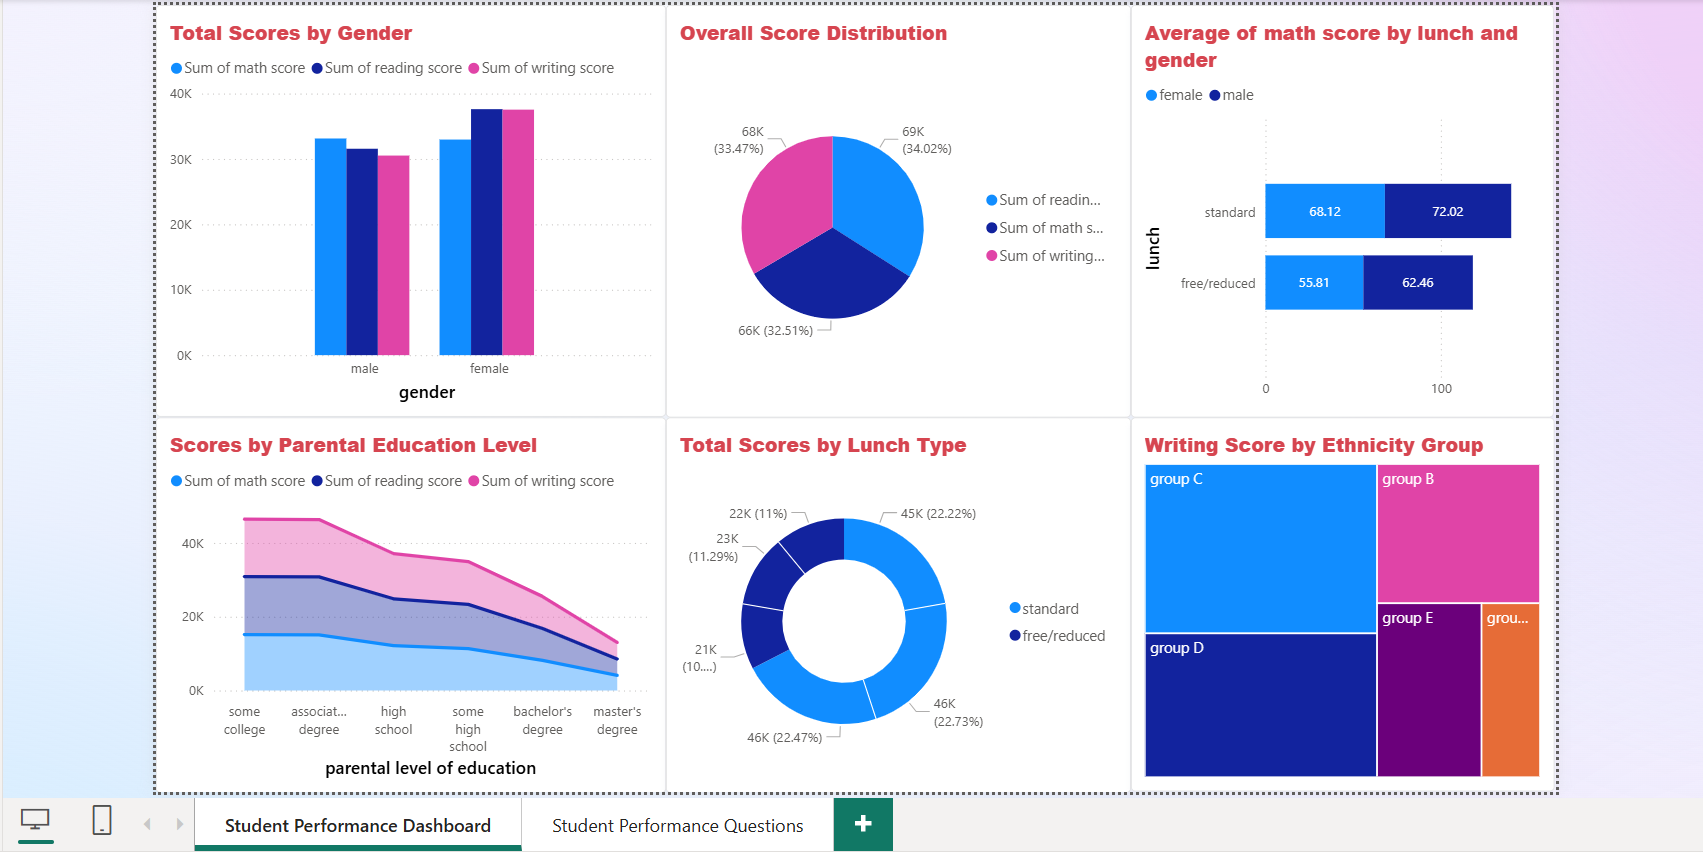

The dashboard page shown, as its layout file describes it:
{"tool":"powerbi","page":{"name":"Student Performance Dashboard","canvas":[1280,720],"ordinal":0},"visuals":[{"type":"clusteredColumnChart","title":"Total Scores by Gender","fields":{"Category":["StudentsPerformance.gender"],"Y":["Sum(StudentsPerformance.math score)","Sum(StudentsPerformance.reading score)","Sum(StudentsPerformance.writing score)"]},"box":[0,0,466.7,376.7],"z":0},{"type":"pieChart","title":"Overall Score Distribution","fields":{"Y":["Sum(StudentsPerformance.reading score)","Sum(StudentsPerformance.math score)","Sum(StudentsPerformance.writing score)"]},"box":[466.6,0,425.4,377.4],"z":1000},{"type":"barChart","title":"Average of math score by lunch and gender","fields":{"Series":["StudentsPerformance.gender"],"Y":["Avg(StudentsPerformance.math score)"],"Category":["StudentsPerformance.lunch"]},"box":[892,0,387,377.4],"z":2000},{"type":"stackedAreaChart","title":"Scores by Parental Education Level","fields":{"Category":["StudentsPerformance.parental level of education"],"Y":["Sum(StudentsPerformance.math score)","Sum(StudentsPerformance.reading score)","Sum(StudentsPerformance.writing score)"]},"box":[0,377.4,466.6,343.1],"z":3000},{"type":"donutChart","title":"Total Scores by Lunch Type","fields":{"Y":["Sum(StudentsPerformance.math score)","Sum(StudentsPerformance.reading score)","Sum(StudentsPerformance.writing score)"],"Category":["StudentsPerformance.lunch"]},"box":[466.6,377.4,425.4,343.1],"z":4000},{"type":"treemap","title":"Writing Score by Ethnicity Group","fields":{"Values":["Sum(StudentsPerformance.writing score)"],"Group":["StudentsPerformance.race/ethnicity"]},"box":[892,378,387.4,342],"z":5000}]}

Visuals, with their boxes on the page's 1280x720 design canvas (x1, y1, x2, y2). These are canvas units, not pixel positions in the 1703x852 screenshot, which may show the page scaled, cropped or inside an application window:
"Total Scores by Gender" clusteredColumnChart: bbox=(0, 0, 467, 377)
"Overall Score Distribution" pieChart: bbox=(467, 0, 892, 377)
"Average of math score by lunch and gender" barChart: bbox=(892, 0, 1279, 377)
"Scores by Parental Education Level" stackedAreaChart: bbox=(0, 377, 467, 720)
"Total Scores by Lunch Type" donutChart: bbox=(467, 377, 892, 720)
"Writing Score by Ethnicity Group" treemap: bbox=(892, 378, 1279, 720)
